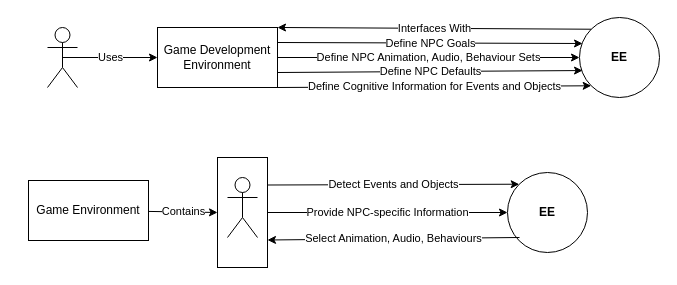
Image size: 677x285. Some labels were removed from this diagram. Here are the shapes that lost their labels. From the top down, the centre of each, then its label:
At pixel 62 57: "Game Developer".
At pixel 242 207: "NPC".
